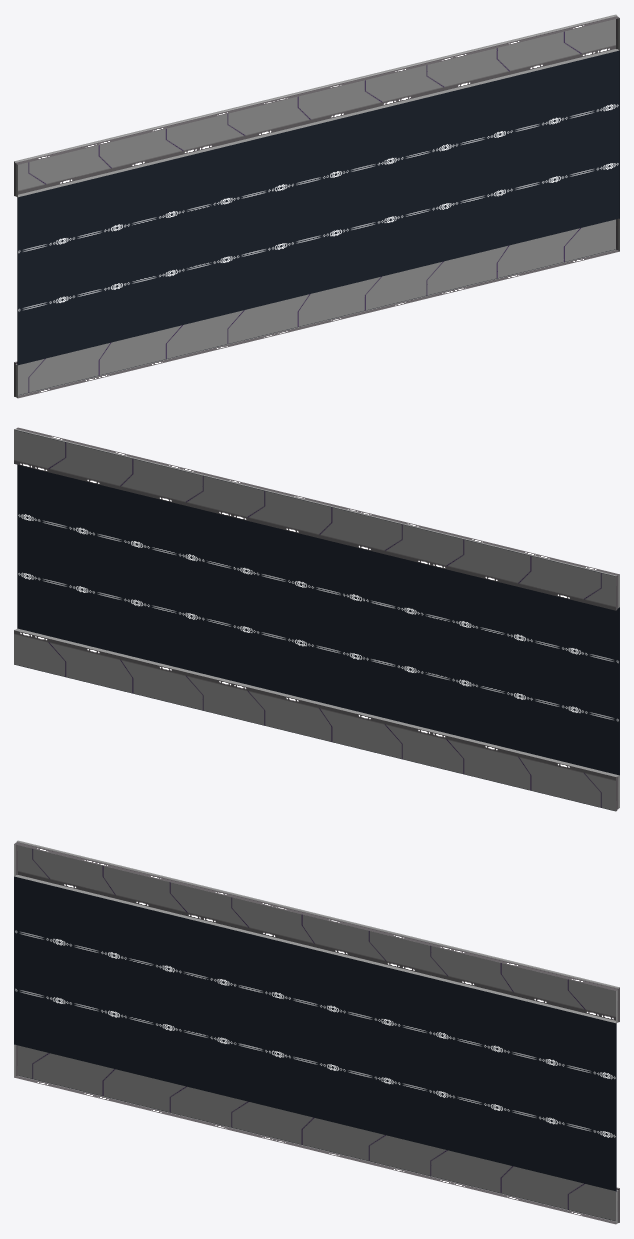
The model's file is SM_M_Road3.fbx.
3 views of the same model, one above another, from view 1: azimuth 30°, elevation 25°; view 2: azimuth 150°, elevation 25°; view 3: azimuth 330°, elevation 25° (orthographic).
Visible parts, largest first — view 1: SM_M_Road3; view 2: SM_M_Road3; view 3: SM_M_Road3.
Boxes of the visible parts, bbox=[...] form: SM_M_Road3: bbox=[14, 14, 619, 398]; SM_M_Road3: bbox=[14, 427, 619, 811]; SM_M_Road3: bbox=[14, 840, 619, 1224].
Size of the model in its own units: 10553 by 3938 by 119.
